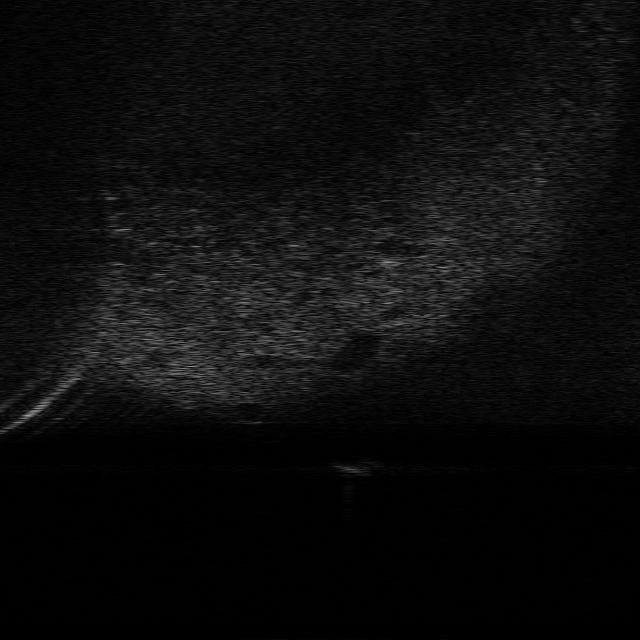cube: (328, 454, 382, 477)
